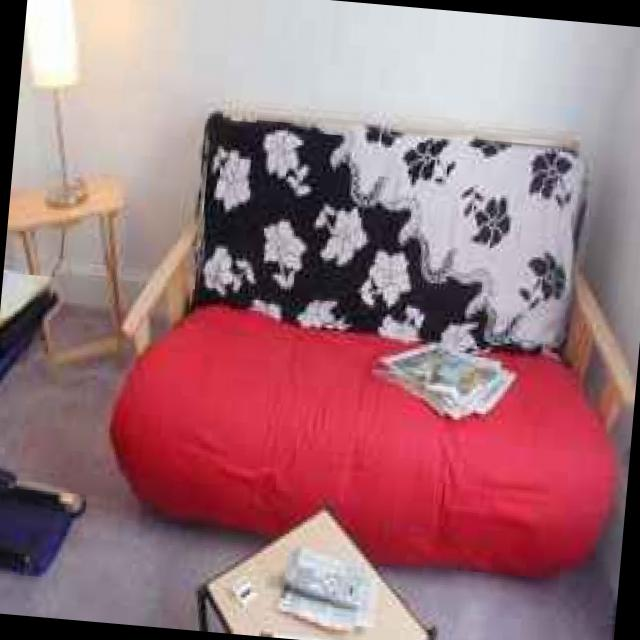floor -X: (0, 288, 610, 640)
lamp crop: (26, 0, 85, 206)
magazines: (381, 335, 517, 422)
sofa crop: (110, 99, 630, 578)
table -X: (12, 171, 119, 351)
table lamp: (200, 507, 432, 640)
wall clock: (4, 0, 611, 336), (575, 24, 640, 605)
